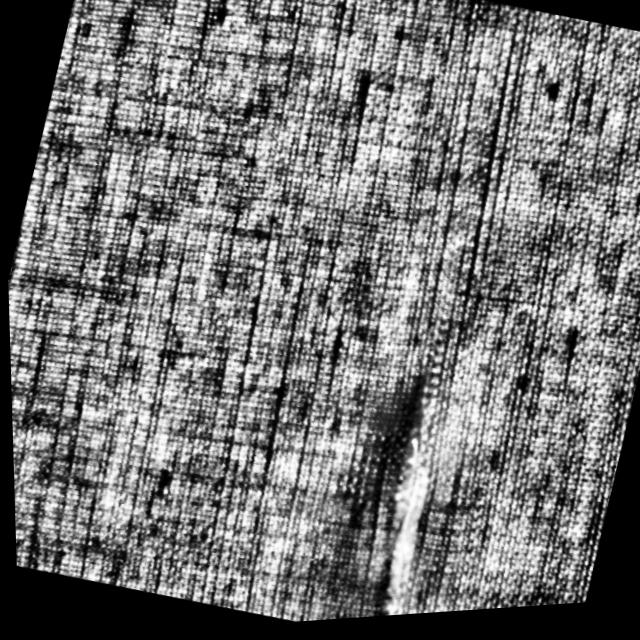Stitch: (309, 367, 468, 624)
